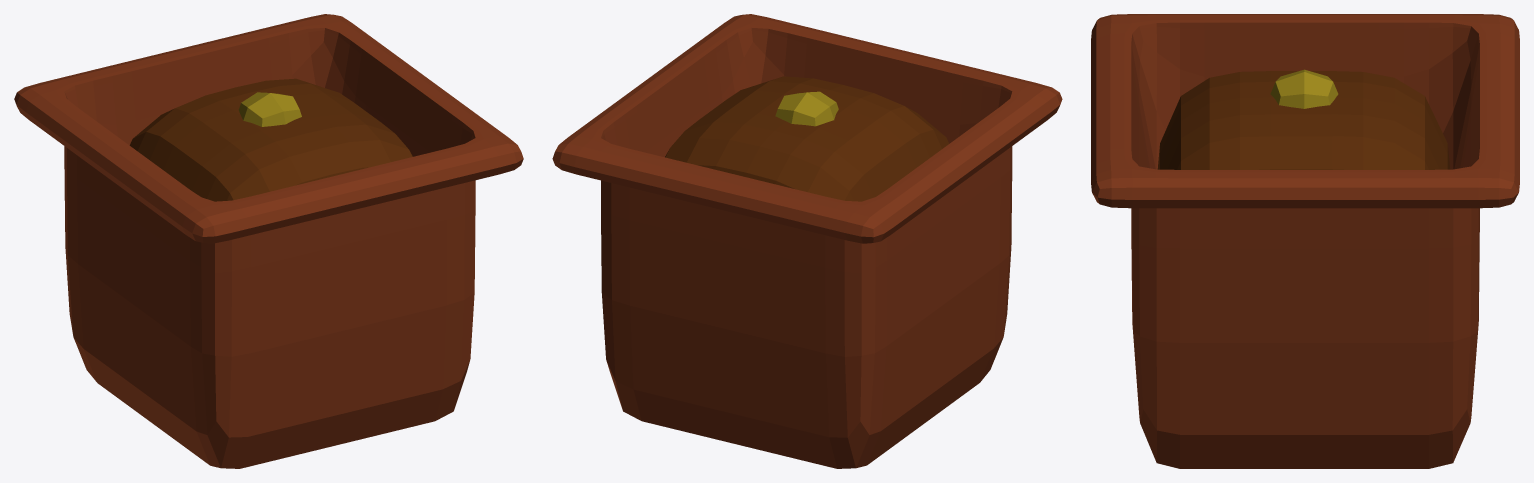
The model's file is potWithSeedW.fbx.
The picture shows the model from 3 angles, left to right: view 1: azimuth 30°, elevation 25°; view 2: azimuth 150°, elevation 25°; view 3: azimuth 270°, elevation 25°; orthographic projection. The views are drawn at different scales.
Visible parts, largest first — view 1: Pot with dirt, dirt, Barley Seed; view 2: Pot with dirt, dirt, Barley Seed; view 3: Pot with dirt, dirt, Barley Seed.
Part boxes in pixels (box(x1,y1,x2,y2)): Pot with dirt: box(14, 14, 523, 468); dirt: box(129, 78, 412, 201); Barley Seed: box(238, 92, 301, 126); Pot with dirt: box(552, 14, 1062, 468); dirt: box(665, 76, 948, 201); Barley Seed: box(775, 91, 838, 126); Pot with dirt: box(1091, 14, 1519, 468); dirt: box(1157, 71, 1450, 169); Barley Seed: box(1270, 69, 1338, 108).
Size of the model in its own units: 308 by 275 by 314.
